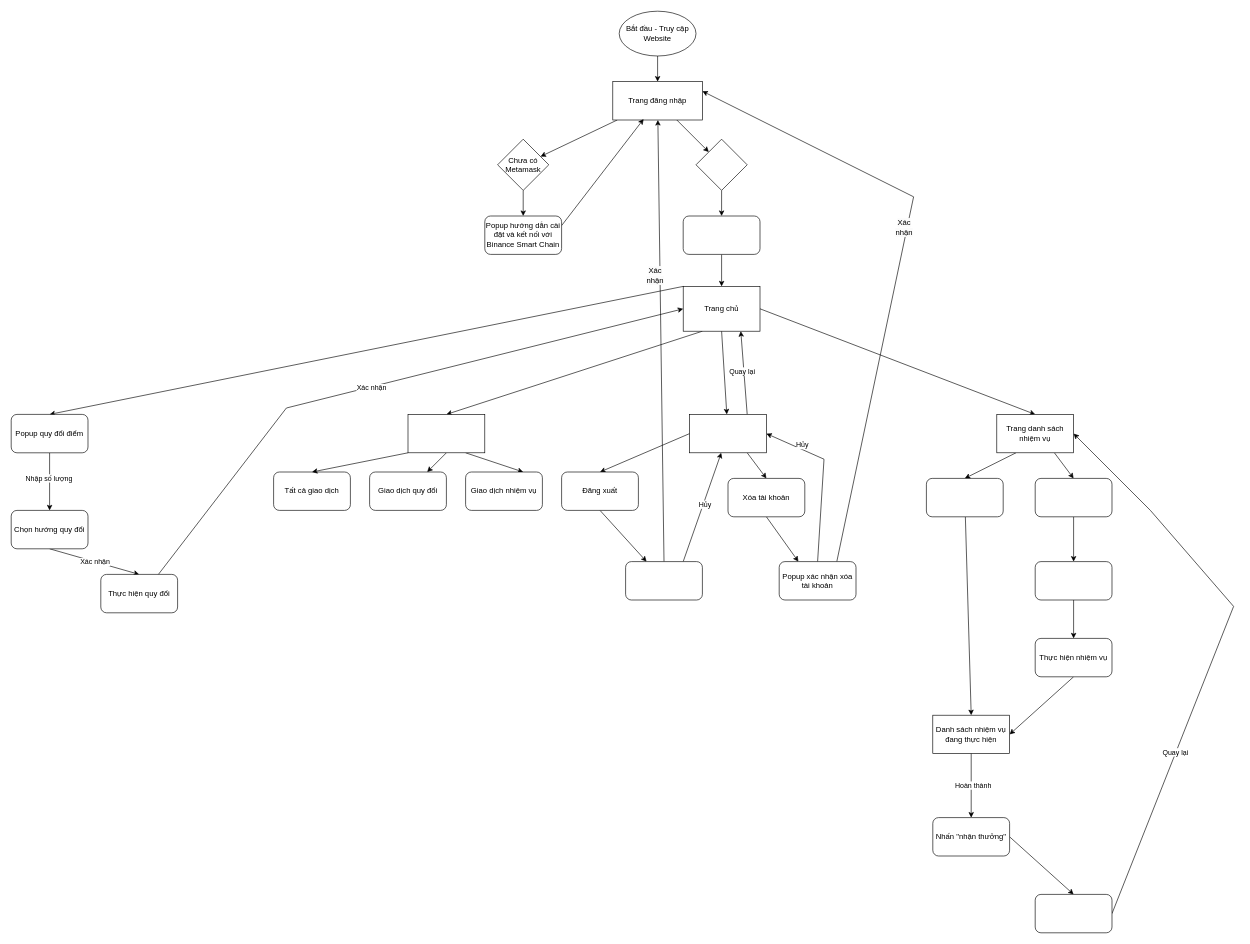
Image size: 1250x944. Some labels were removed from this diagram. Each missing label, with the centre of its shape:
"Danh sách nhiệm vụ mới" goes at pixel 1073 580.
"Nhiệm vụ mới" goes at pixel 1073 497.
"Popup hoàn thành nhiệm vụ" goes at pixel 1073 913.
"Popup kết nối ví Metamsk" goes at pixel 721 234.
"Popup xác nhận đăng xuất" goes at pixel 663 580.
"Trang cài đặt tài khoản" goes at pixel 727 433.
"Trang lịch sử giao dịch" goes at pixel 446 433.
"Đang thực hiện" goes at pixel 964 497.
"Đã có Metamask" goes at pixel 721 164.
